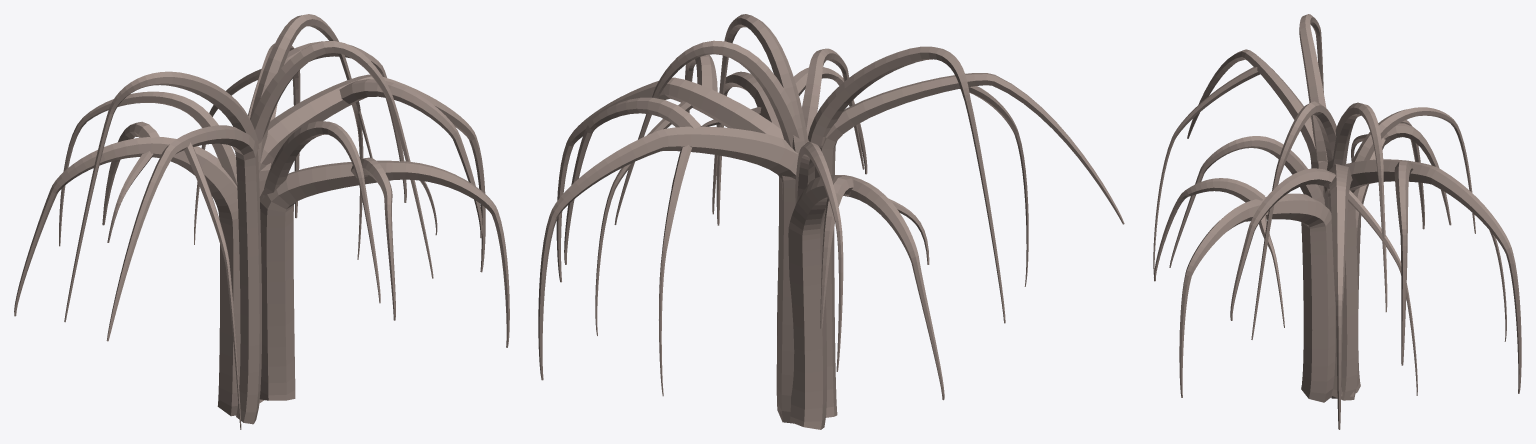
Rendered from arbre3_v3.fbx.
The picture shows the model from 3 angles, left to right: view 1: azimuth 30°, elevation 25°; view 2: azimuth 150°, elevation 25°; view 3: azimuth 270°, elevation 25°; orthographic projection. The views are drawn at different scales.
Parts seen in each view (by area): view 1: BezierCurve; view 2: BezierCurve; view 3: BezierCurve.
Boxes of the visible parts, x1=… form: BezierCurve: x1=14, y1=14, x2=509, y2=429; BezierCurve: x1=538, y1=14, x2=1124, y2=429; BezierCurve: x1=1153, y1=14, x2=1521, y2=429.
Bounding box in the file's own units: 2970 × 2314 × 2311.
